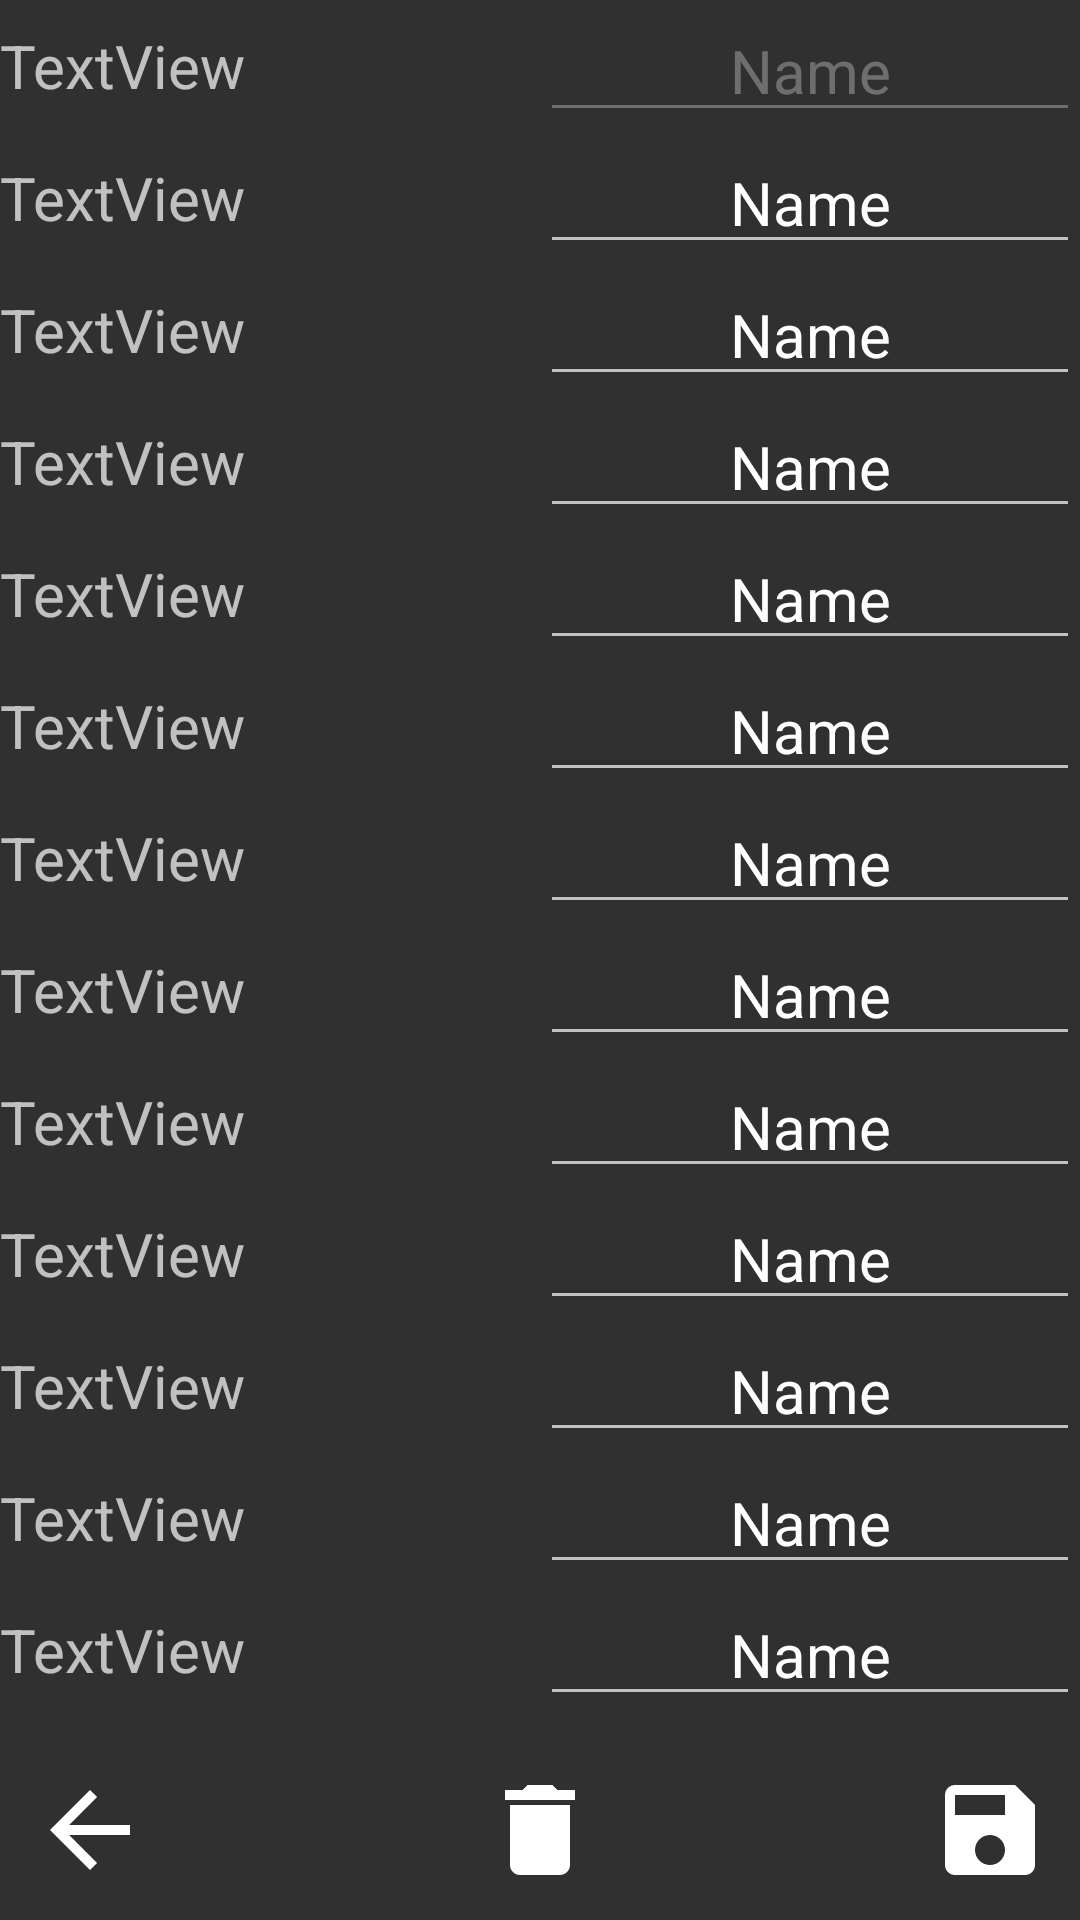

Icon bounding boxes for this 1080x1920 phone screenshot, format (x1, y1, x2, y2):
back: (50, 1790, 130, 1870)
delete: (505, 1785, 575, 1875)
save: (945, 1785, 1035, 1875)
